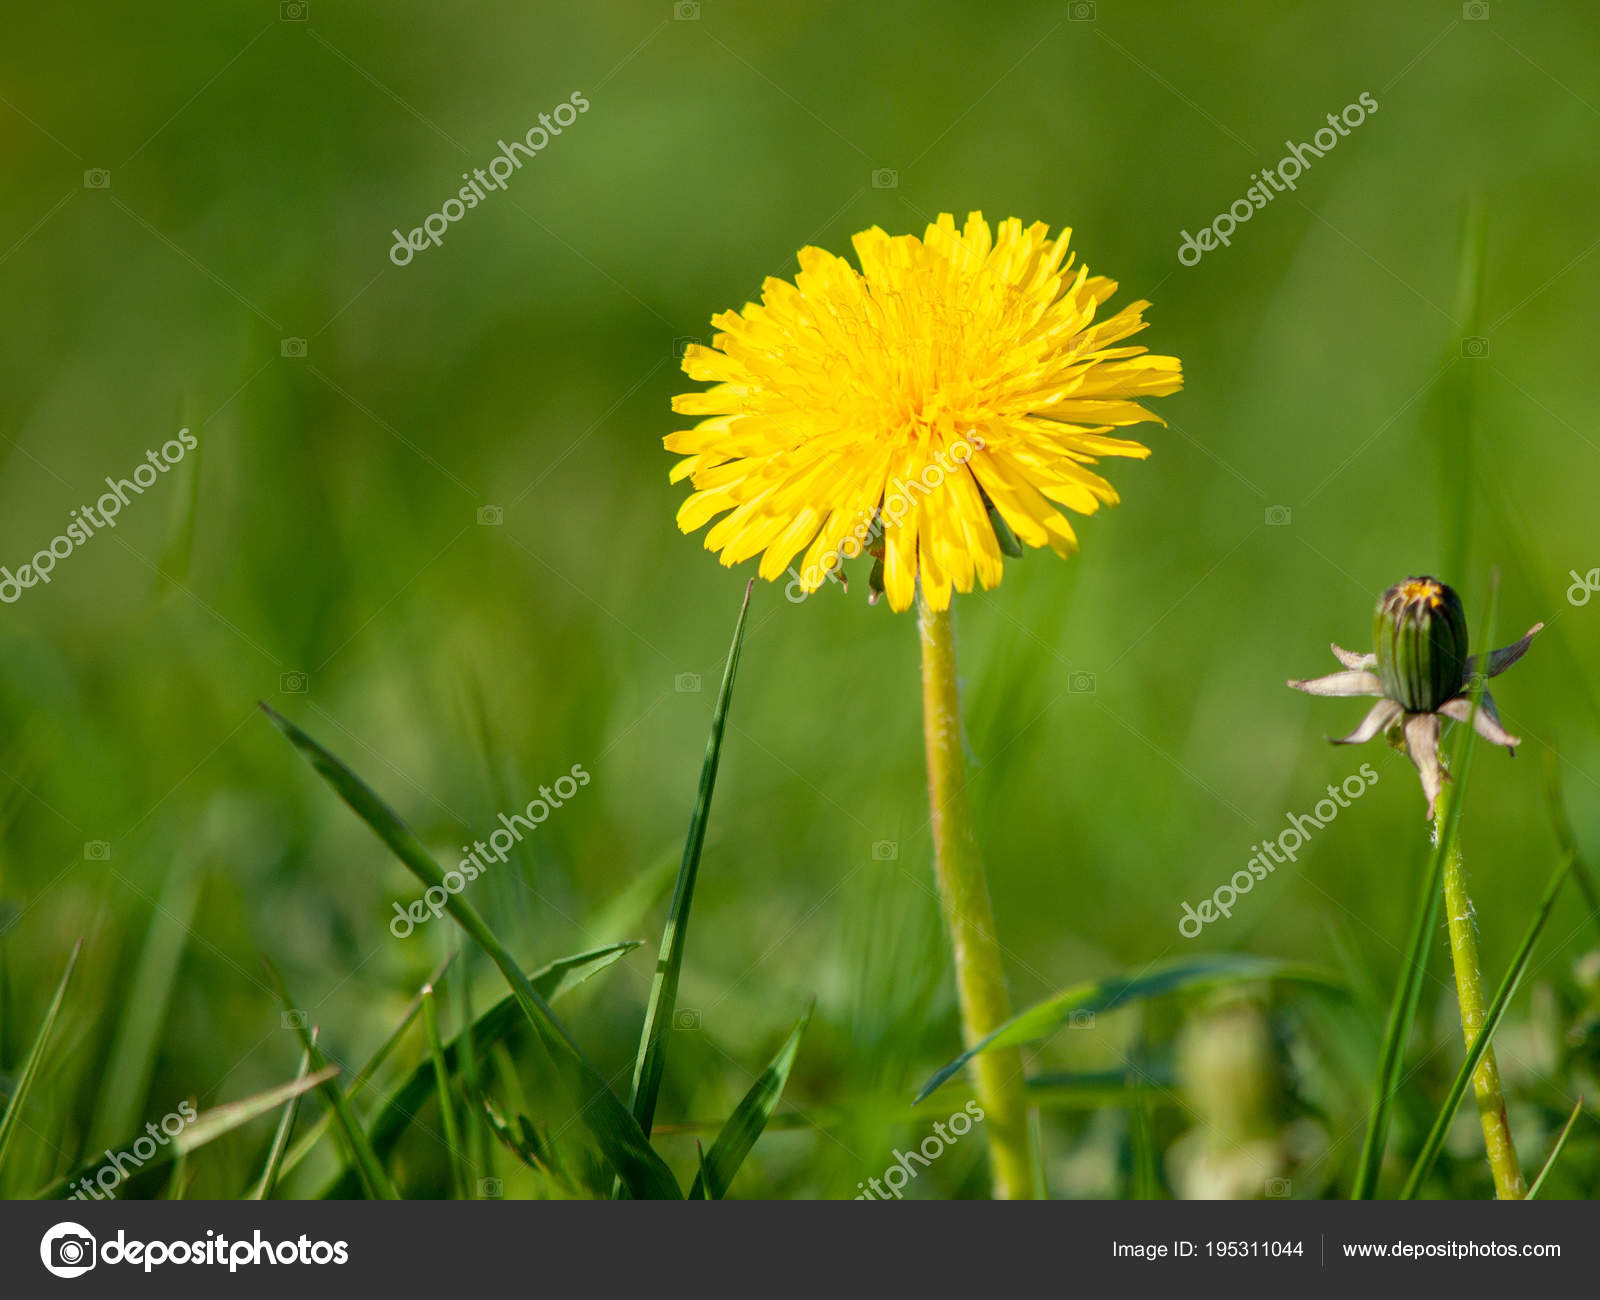dandelion: (661, 249, 1195, 604)
